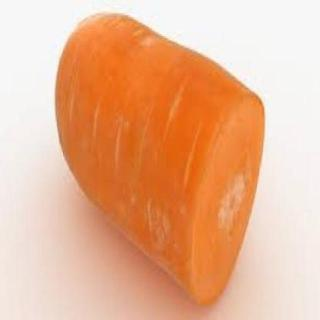carrot: (53, 10, 265, 306)
